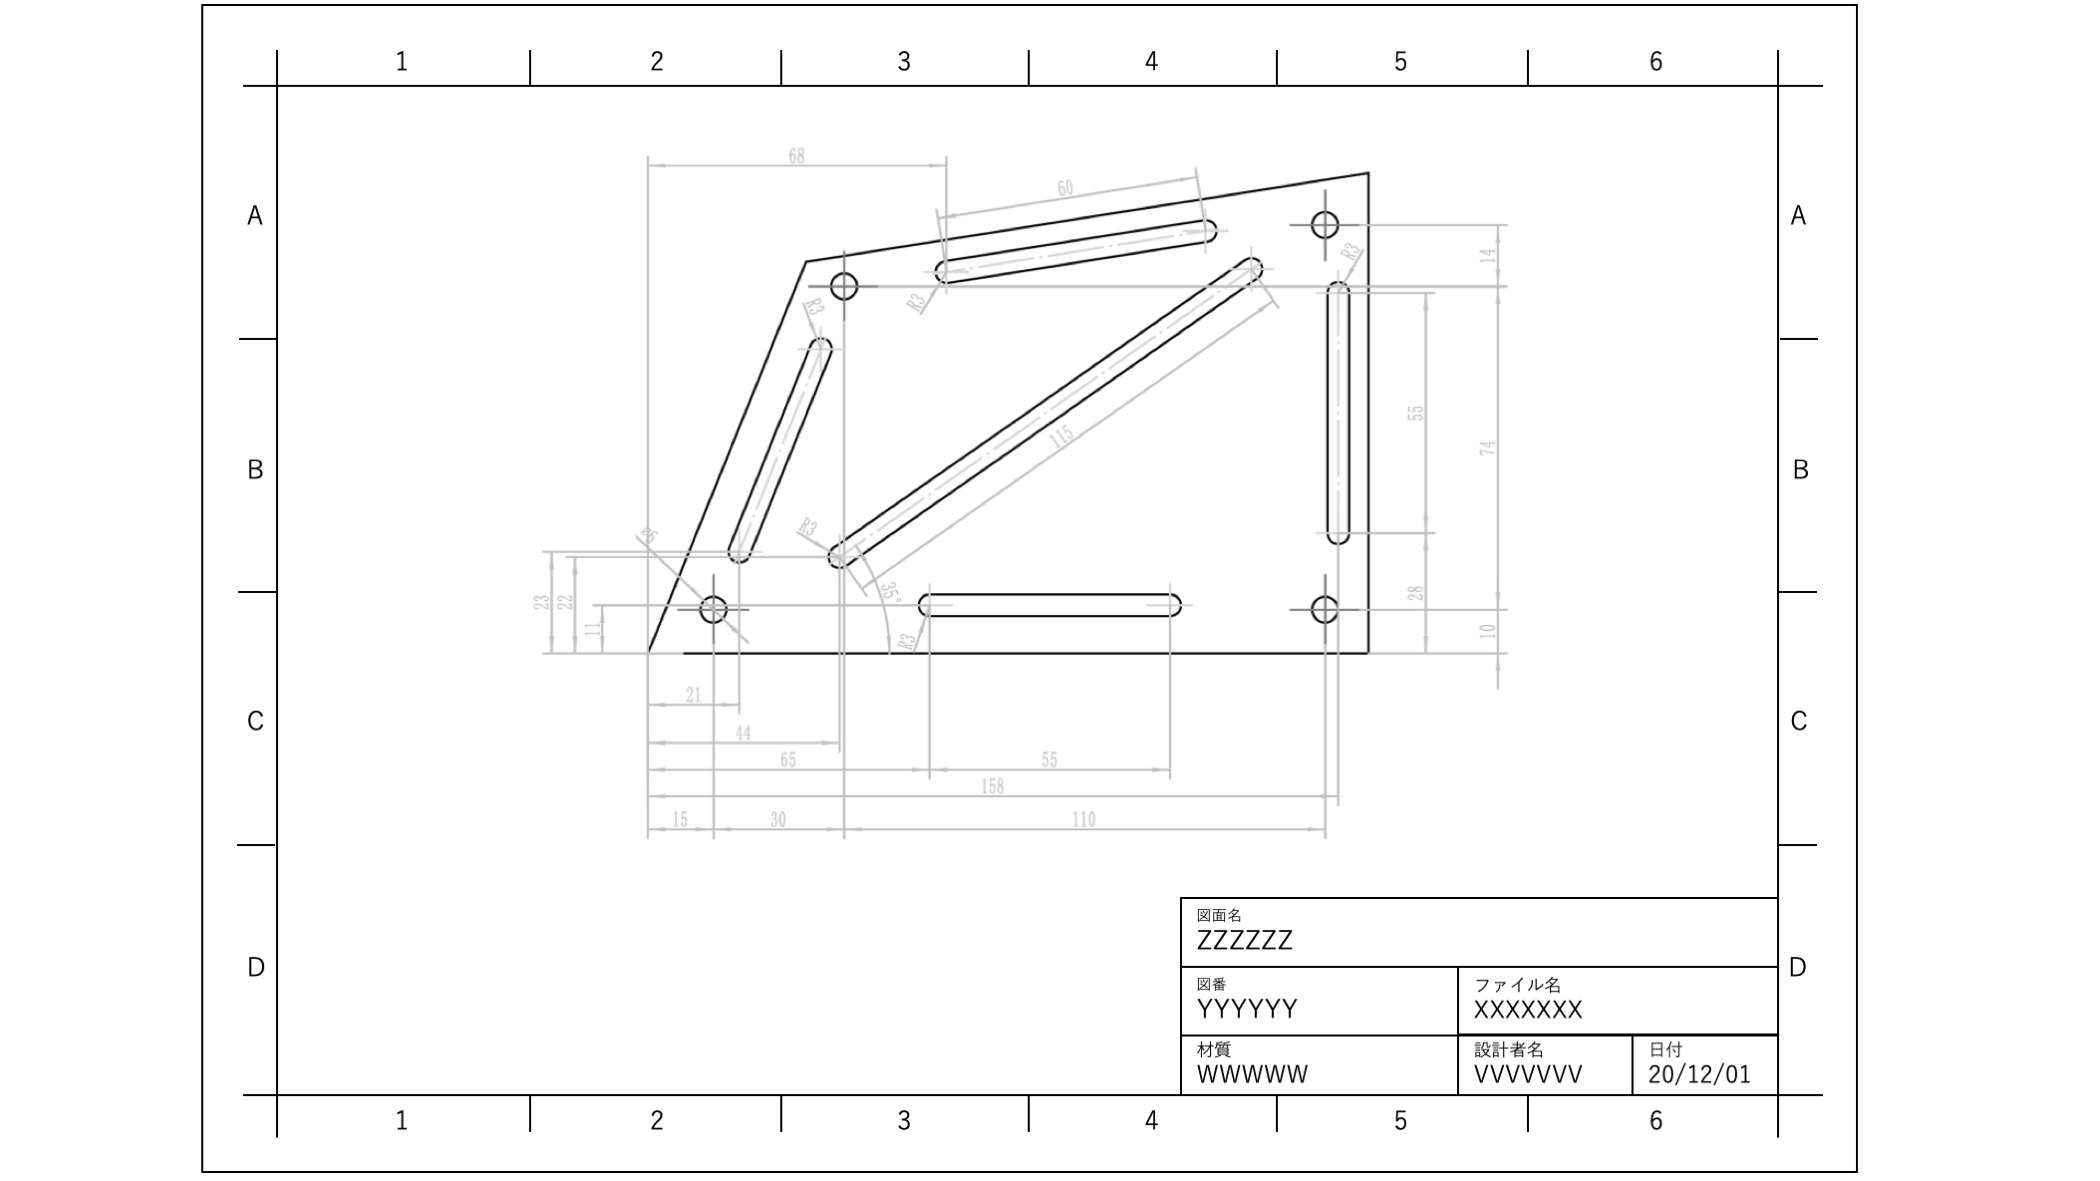circle: (829, 267, 865, 311), (692, 585, 733, 624), (1305, 588, 1346, 627), (1305, 200, 1341, 242)
round_rectangle: (819, 247, 1268, 581), (721, 330, 831, 567), (929, 209, 1229, 293), (909, 585, 1190, 627), (1320, 270, 1354, 549)
